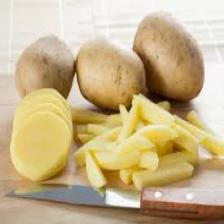Potato: (133, 6, 207, 104), (72, 36, 148, 117), (13, 30, 76, 114)
